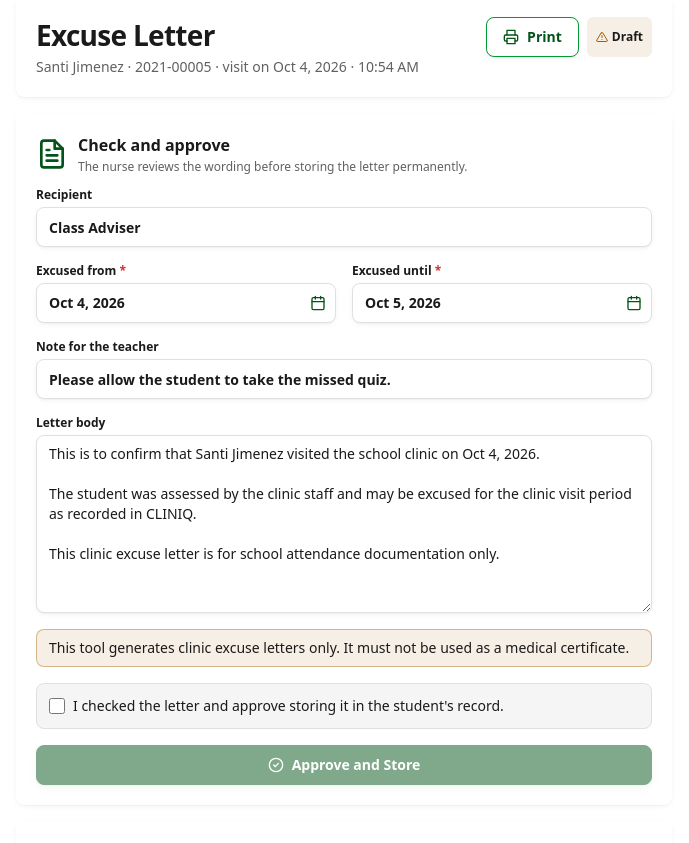
Test: Excuse Letter › prefills the period and teacher note from the visit draft, and snapshots both on approval
The image size is (689, 843).
Expected: the heading "Excuse Letter" is shown, 36,16 -> 215,54
Expected: the field labelled "Note for the teacher" holds "Please allow the student to take the missed quiz.", 36,359 -> 652,399
Click the checkbox labelled "I checked the letter": (57,706) 49,698 -> 65,714
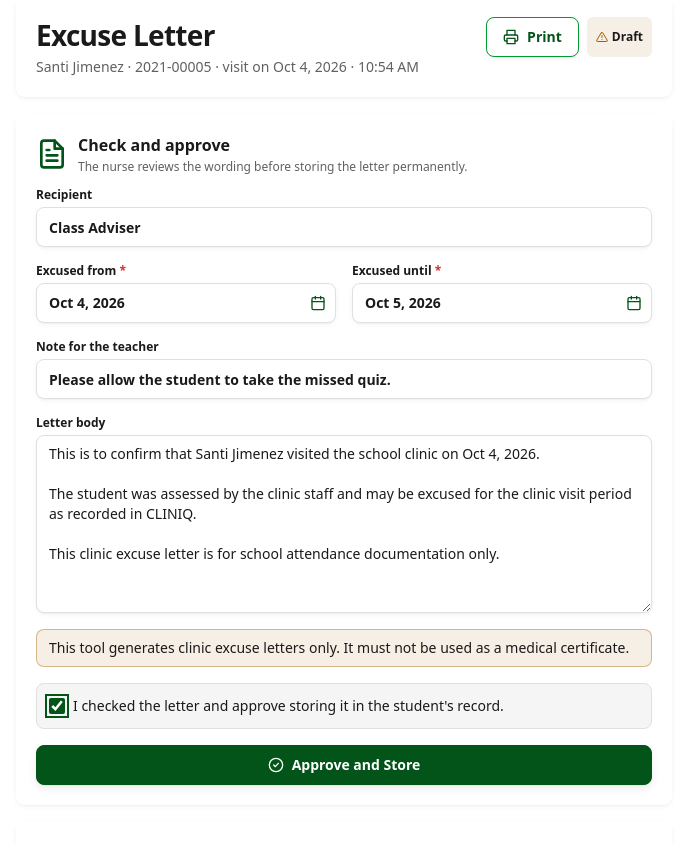
Click the button "Approve and Store": (344,765) 36,745 -> 652,785
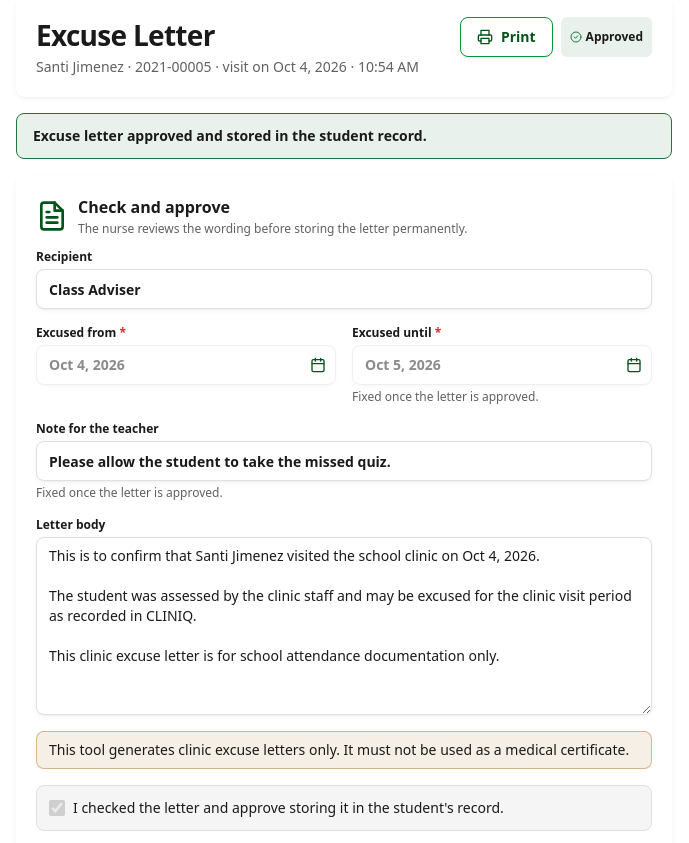
Expected: the text "Excuse letter approved and stored in the student record." is shown, 16,113 -> 672,159
Expected: the field labelled "Note for the teacher" is disabled, 36,441 -> 652,481
